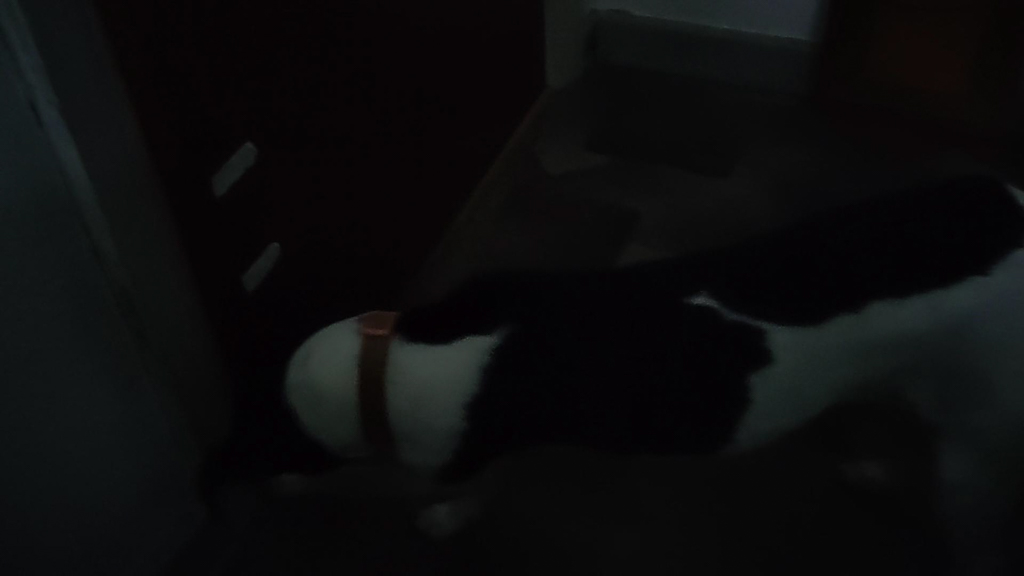Dog: (158, 117, 1024, 576)
